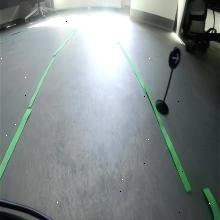right: (168, 48, 182, 70)
